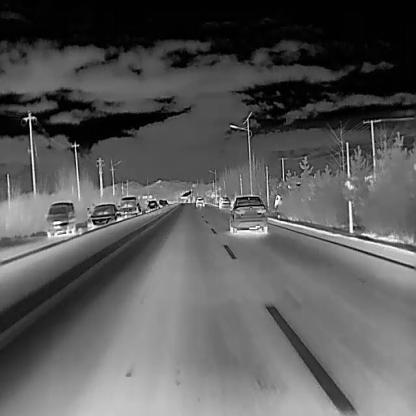car: (229, 195, 267, 234), (45, 200, 75, 239), (87, 203, 122, 232), (116, 194, 141, 219), (274, 193, 283, 211), (218, 195, 230, 208), (146, 199, 158, 212), (158, 198, 168, 209), (196, 195, 205, 207)
